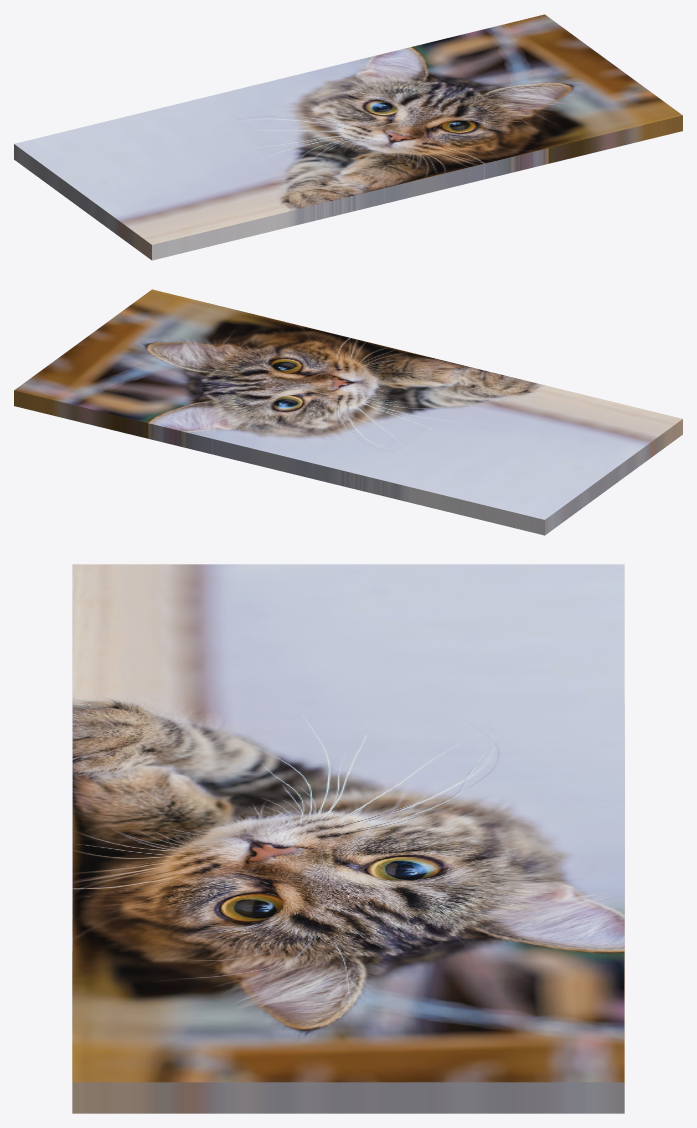
Rendered from CATPOSTER.fbx.
3 views of the same model, one above another, from view 1: azimuth 30°, elevation 25°; view 2: azimuth 150°, elevation 25°; view 3: azimuth 270°, elevation 25° (orthographic). The views are drawn at different scales.
Visible parts, largest first — view 1: Plane; view 2: Plane; view 3: Plane.
Part boxes in pixels (box(x1,y1,x2,y2)): Plane: box(14, 14, 682, 260); Plane: box(14, 289, 682, 535); Plane: box(72, 564, 624, 1113).
Size of the model in its own units: 667 by 18.76 by 300.
